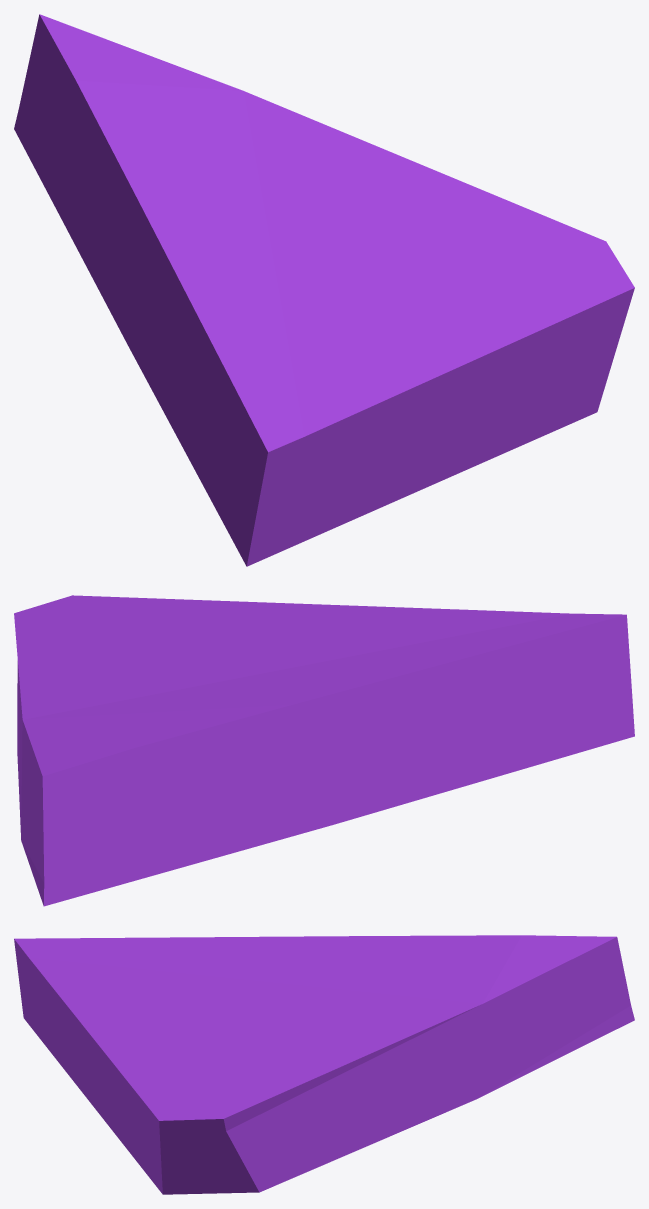
File: Glass_100_3_7_chunks.fbx
3 renders of one model, top to bottom at view 1: azimuth 30°, elevation 25°; view 2: azimuth 150°, elevation 25°; view 3: azimuth 270°, elevation 25°, orthographic. The views are drawn at different scales.
Parts seen in each view (by area): view 1: Glass_100_3_7_0; view 2: Glass_100_3_7_0; view 3: Glass_100_3_7_0.
Part boxes in pixels (x1=…): Glass_100_3_7_0: x1=14, y1=14, x2=634, y2=566; Glass_100_3_7_0: x1=14, y1=595, x2=634, y2=906; Glass_100_3_7_0: x1=14, y1=935, x2=634, y2=1194.
Size of the model in its own units: 142 by 63.48 by 211.
